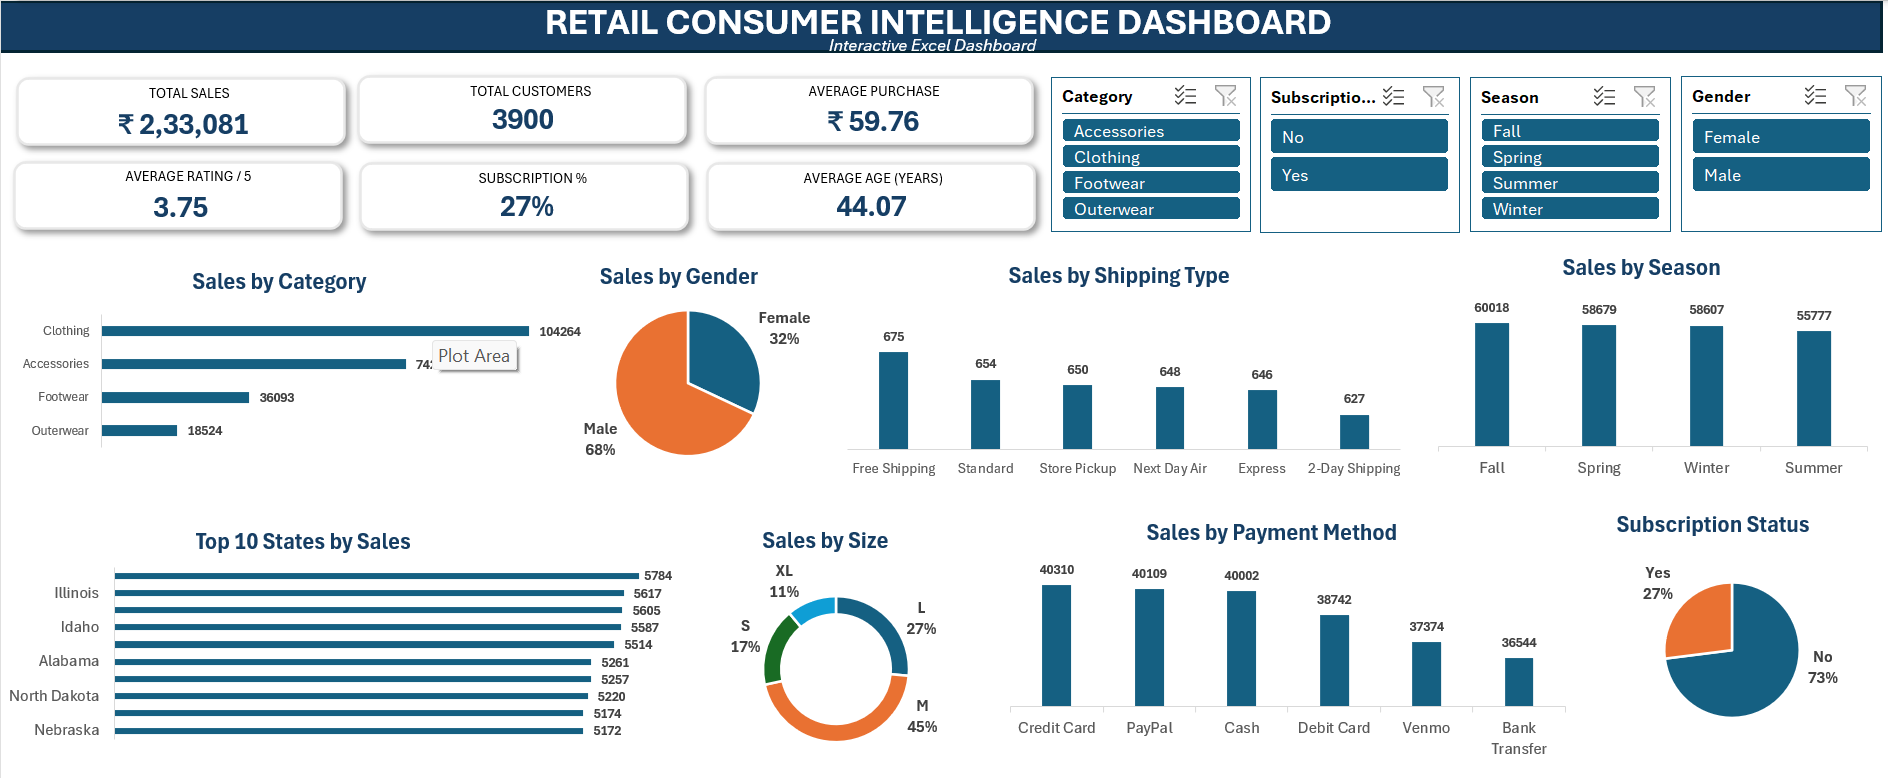

The page's visual inventory and layout, read from the dashboard file:
{"tool":"powerbi","page":{"name":"Page 1","canvas":[1670,970],"ordinal":0},"visuals":[{"type":"textbox","box":[0,0,1664,48],"z":0},{"type":"cardVisual","fields":{"Data":["consumer_behavior_final.Total Sales","consumer_behavior_final.Total Customers","consumer_behavior_final.Average Purchase","consumer_behavior_final.Average Rating","consumer_behavior_final.Subscription %","consumer_behavior_final.Average Age"]},"box":[208,48,1462,144],"z":1000},{"type":"listSlicer","fields":{"Values":["consumer_behavior_final.Category"]},"box":[16,80,192,192],"z":2000},{"type":"listSlicer","fields":{"Values":["consumer_behavior_final.Season"]},"box":[16,288,192,192],"z":3000},{"type":"advancedSlicerVisual","fields":{"Values":["consumer_behavior_final.Gender"]},"box":[16,496,192,80],"z":4000},{"type":"advancedSlicerVisual","fields":{"Values":["consumer_behavior_final.Subscription Status"]},"box":[16,592,192,80],"z":5000},{"type":"textbox","box":[0,32,1664,32],"z":6000},{"type":"clusteredColumnChart","title":"Sales by Category","fields":{"Category":["consumer_behavior_final.Category"],"Y":["Sum(consumer_behavior_final.Purchase Amount (USD))"]},"box":[240,192,464,240],"z":7000},{"type":"clusteredColumnChart","title":"Sales by Shipping Type","fields":{"Category":["consumer_behavior_final.Shipping Type"],"Y":["Sum(consumer_behavior_final.Purchase Amount (USD))"]},"box":[240,448,464,240],"z":8000},{"type":"donutChart","title":"Sales by Gender","fields":{"Y":["Sum(consumer_behavior_final.Purchase Amount (USD))"],"Series":["consumer_behavior_final.Gender"]},"box":[720,192,464,240],"z":9000},{"type":"clusteredColumnChart","title":"Sales by Season","fields":{"Category":["consumer_behavior_final.Season"],"Y":["Sum(consumer_behavior_final.Purchase Amount (USD))"]},"box":[1200,192,456,240],"z":10000},{"type":"clusteredBarChart","title":"Sales by Payment Method","fields":{"Category":["consumer_behavior_final.Payment Method"],"Y":["Sum(consumer_behavior_final.Purchase Amount (USD))"]},"box":[720,448,464,240],"z":11000},{"type":"clusteredBarChart","title":"Sales by Size","fields":{"Category":["consumer_behavior_final.Size"],"Y":["Sum(consumer_behavior_final.Purchase Amount (USD))"]},"box":[1200,448,456,240],"z":12000},{"type":"clusteredBarChart","title":"Top 5 Sales Location","fields":{"Category":["consumer_behavior_final.Location"],"Y":["Sum(consumer_behavior_final.Purchase Amount (USD))"]},"box":[240,704,464,240],"z":13000},{"type":"donutChart","title":"Sales by Subscription Status","fields":{"Category":["consumer_behavior_final.Subscription Status"],"Y":["Sum(consumer_behavior_final.Purchase Amount (USD))"]},"box":[720,704,464,240],"z":14000},{"type":"donutChart","title":"Sales by Loyal Customer","fields":{"Category":["consumer_behavior_final.Loyal Customer"],"Y":["Sum(consumer_behavior_final.Purchase Amount (USD))"]},"box":[1200,704,456,240],"z":15000},{"type":"listSlicer","fields":{"Values":["consumer_behavior_final.Payment Method"]},"box":[16,688,192,256],"z":16000}]}

Visuals, with their boxes on the page's 1670x970 design canvas (x1, y1, x2, y2). These are canvas units, not pixel positions in the 1888x778 screenshot, which may show the page scaled, cropped or inside an application window:
textbox: [0, 0, 1664, 48]
cardVisual - consumer_behavior_final.Total Sales x consumer_behavior_final.Total Customers: [208, 48, 1670, 192]
listSlicer - consumer_behavior_final.Category: [16, 80, 208, 272]
listSlicer - consumer_behavior_final.Season: [16, 288, 208, 480]
advancedSlicerVisual - consumer_behavior_final.Gender: [16, 496, 208, 576]
advancedSlicerVisual - consumer_behavior_final.Subscription Status: [16, 592, 208, 672]
textbox: [0, 32, 1664, 64]
"Sales by Category" clusteredColumnChart: [240, 192, 704, 432]
"Sales by Shipping Type" clusteredColumnChart: [240, 448, 704, 688]
"Sales by Gender" donutChart: [720, 192, 1184, 432]
"Sales by Season" clusteredColumnChart: [1200, 192, 1656, 432]
"Sales by Payment Method" clusteredBarChart: [720, 448, 1184, 688]
"Sales by Size" clusteredBarChart: [1200, 448, 1656, 688]
"Top 5 Sales Location" clusteredBarChart: [240, 704, 704, 944]
"Sales by Subscription Status" donutChart: [720, 704, 1184, 944]
"Sales by Loyal Customer" donutChart: [1200, 704, 1656, 944]
listSlicer - consumer_behavior_final.Payment Method: [16, 688, 208, 944]
